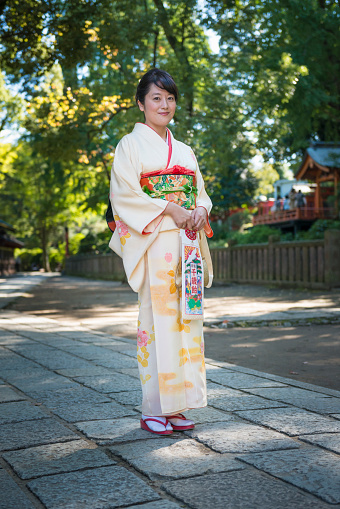em pe: (101, 69, 220, 434)
